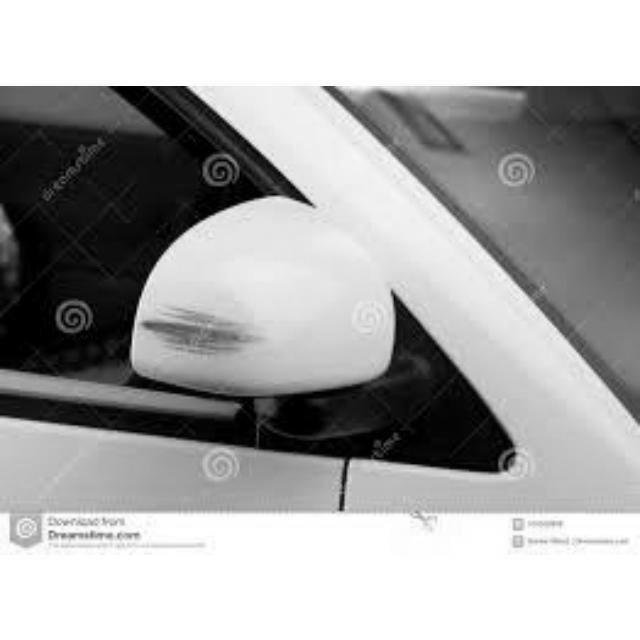Sidemirror-Damage: (113, 186, 408, 400)
